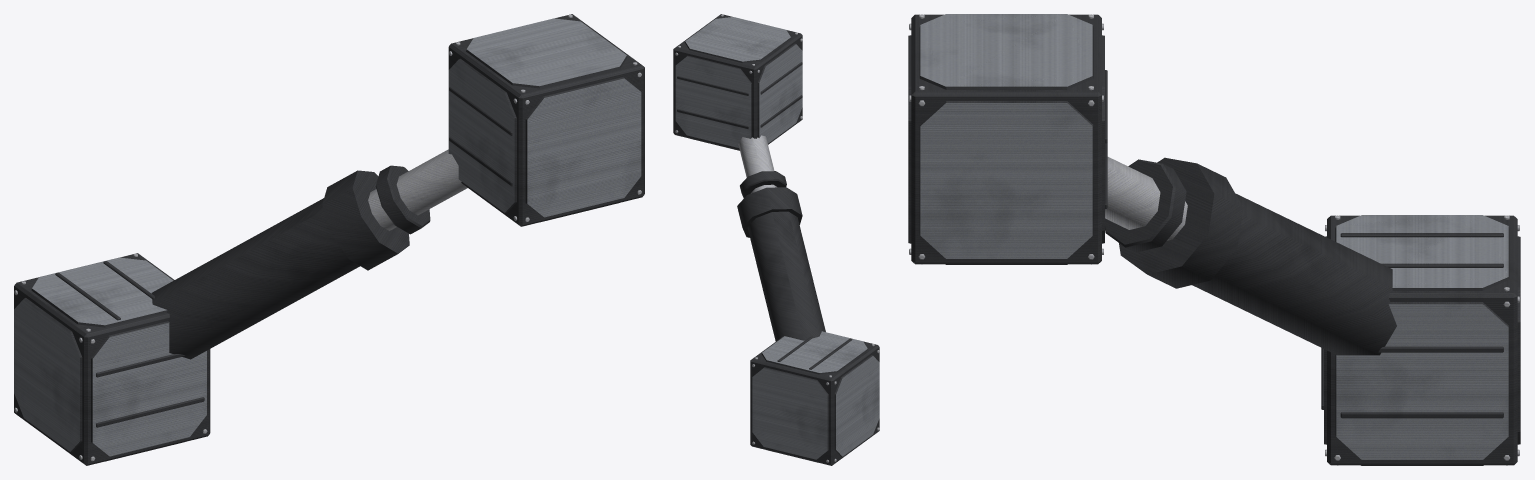
Rendered from R4C_STRUT_DIAG_3D.glb.
3 views of the same model, side by side, from view 1: azimuth 30°, elevation 25°; view 2: azimuth 150°, elevation 25°; view 3: azimuth 270°, elevation 25° (orthographic). The views are drawn at different scales.
Visible parts, largest first — view 1: R4C_STRUT_DIAG_3D; view 2: R4C_STRUT_DIAG_3D; view 3: R4C_STRUT_DIAG_3D.
Boxes of the visible parts, x1,y1,x2,y2 form: R4C_STRUT_DIAG_3D: (14, 14, 644, 465); R4C_STRUT_DIAG_3D: (673, 14, 879, 465); R4C_STRUT_DIAG_3D: (908, 14, 1520, 465).
Bounding box in the file's own units: 1.62 × 1.62 × 1.62.
4 materials, 4 textured.
